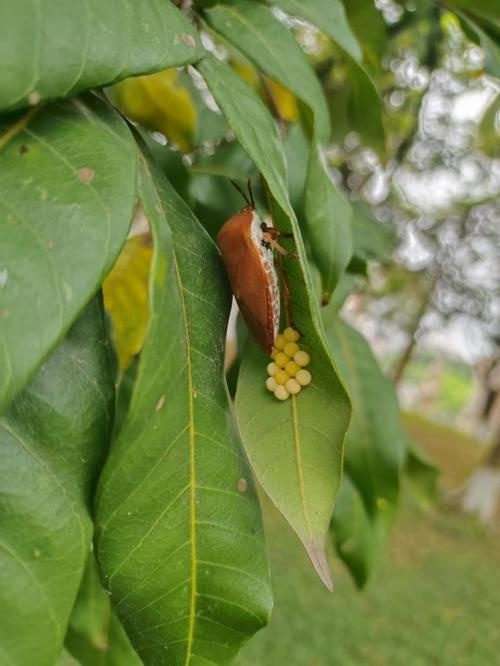Stink_Bug: (213, 188, 319, 399)
